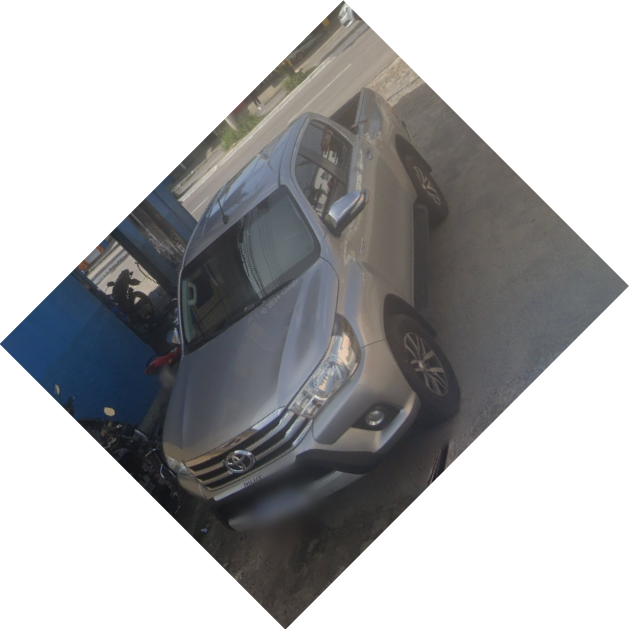car: (155, 88, 465, 521)
